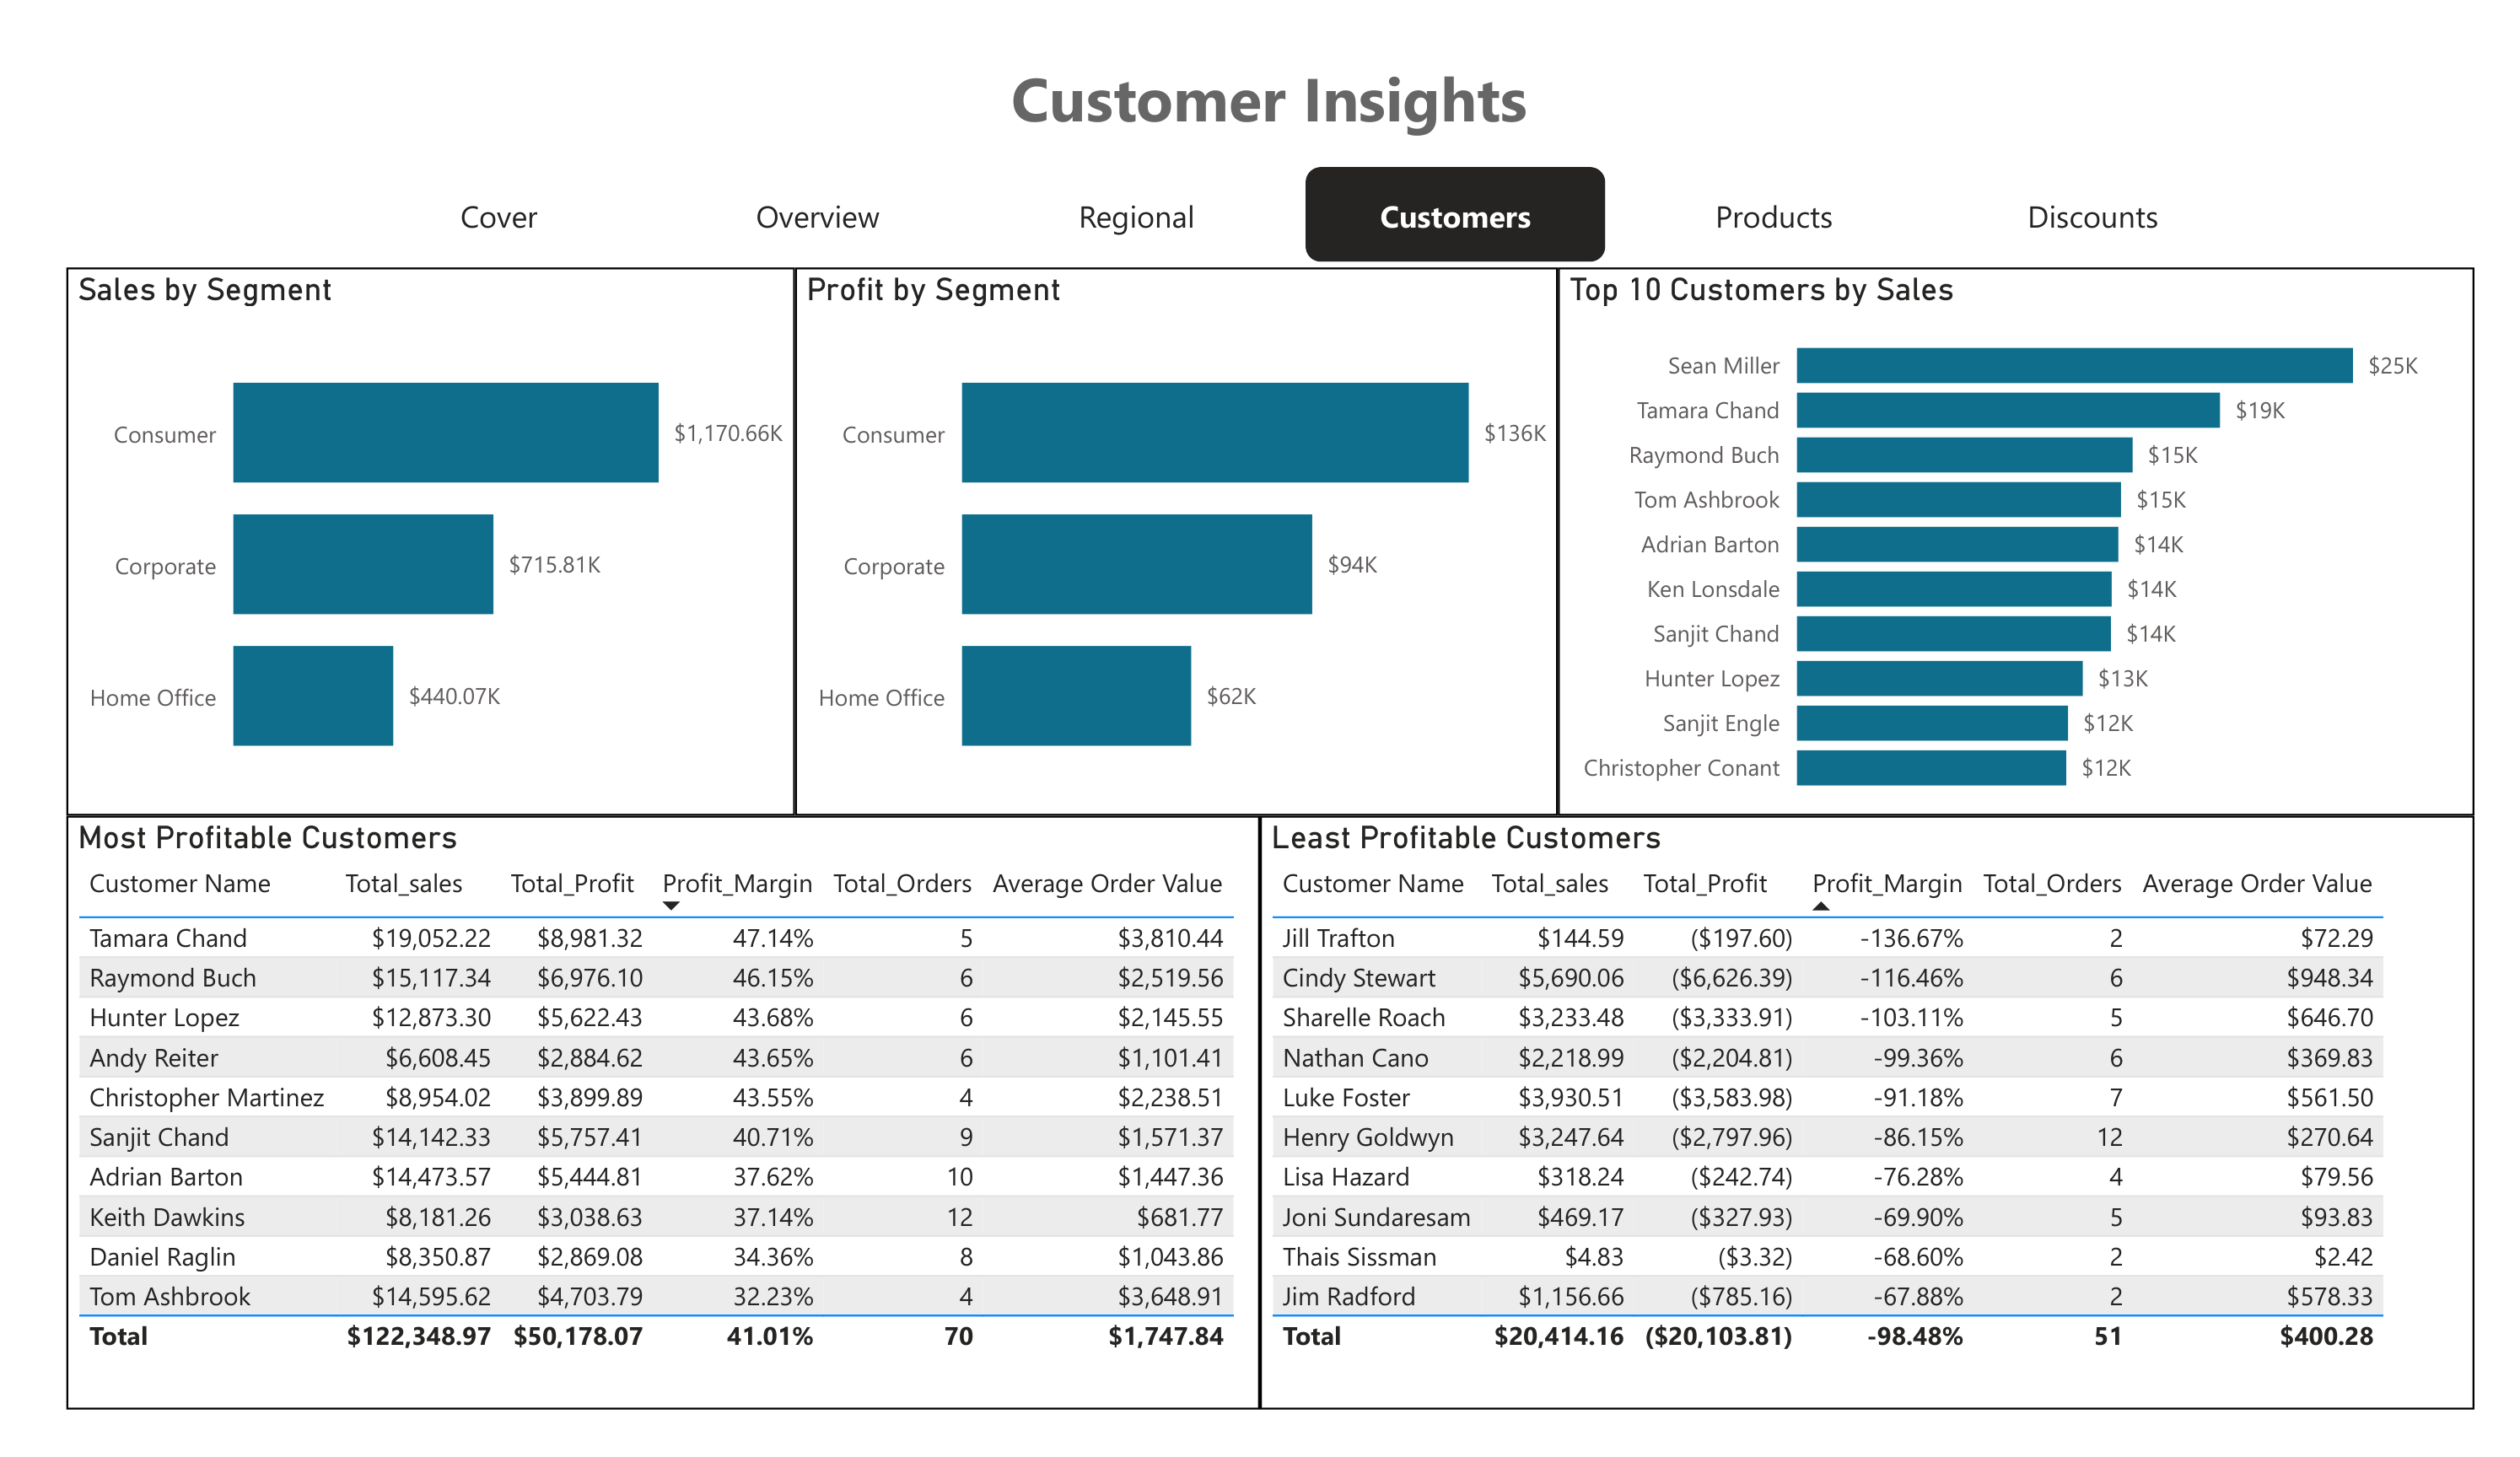

The page's visual inventory and layout, read from the dashboard file:
{"tool":"powerbi","page":{"name":"Customers","canvas":[1280,720],"ordinal":3},"visuals":[{"type":"textbox","box":[9.6,0,1270.7,96.1],"z":0},{"type":"clusteredBarChart","title":"Sales by Segment","fields":{"Category":["orders.Segment"],"Y":["KPI_Measures.Total_sales"]},"box":[10.8,117,384.6,289.1],"z":1000},{"type":"clusteredBarChart","title":"Profit by Segment","fields":{"Category":["orders.Segment"],"Y":["KPI_Measures.Total_Profit"]},"box":[395.4,117,402.1,289.1],"z":2000},{"type":"clusteredBarChart","title":"Top 10 Customers by Sales","fields":{"Category":["orders.Customer Name"],"Y":["KPI_Measures.Total_sales"]},"box":[797.5,117,482.8,289.1],"z":3000},{"type":"tableEx","title":"Most Profitable Customers","fields":{"Values":["orders.Customer Name","KPI_Measures.Total_sales","KPI_Measures.Total_Profit","KPI_Measures.Profit_Margin","KPI_Measures.Total_Orders","KPI_Measures.Average Order Value"]},"box":[10.8,406.1,629.4,313.3],"z":4000},{"type":"tableEx","title":"Least Profitable Customers","fields":{"Values":["orders.Customer Name","KPI_Measures.Total_sales","KPI_Measures.Total_Profit","KPI_Measures.Profit_Margin","KPI_Measures.Total_Orders","KPI_Measures.Average Order Value"]},"box":[640.1,406.1,640.1,313.3],"z":5000},{"type":"pageNavigator","box":[160,64,1000,50],"z":6000}]}

Visuals, with their boxes in screenshot pixels (x1, y1, x2, y2), scaled from the page's 1280x720 canvas onto the 2520x1457 screenshot:
textbox: crop(19, 0, 2519, 195)
"Sales by Segment" clusteredBarChart: crop(21, 237, 778, 822)
"Profit by Segment" clusteredBarChart: crop(778, 237, 1570, 822)
"Top 10 Customers by Sales" clusteredBarChart: crop(1570, 237, 2519, 822)
"Most Profitable Customers" tableEx: crop(21, 822, 1260, 1456)
"Least Profitable Customers" tableEx: crop(1260, 822, 2519, 1456)
pageNavigator: crop(315, 130, 2284, 231)
